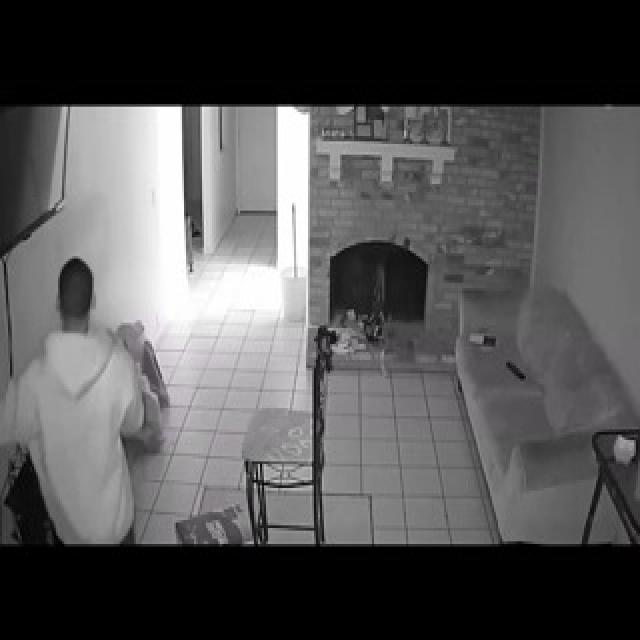thief: (36, 243, 112, 415)
